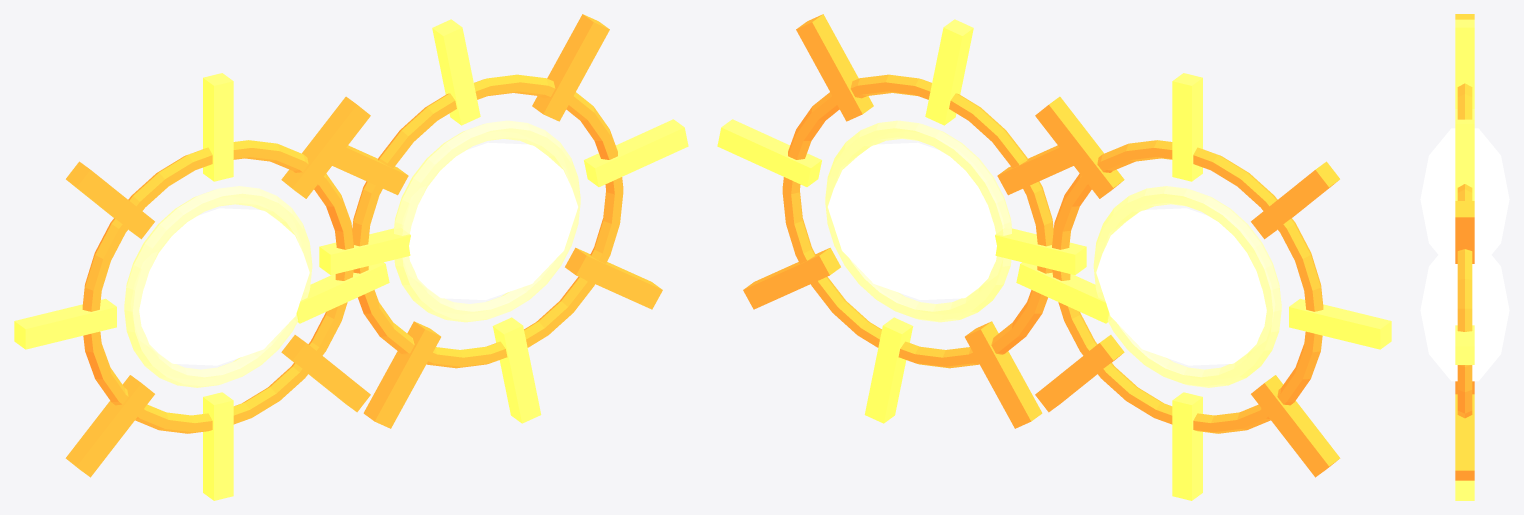
Rendered from effect-double-hit.glb.
The picture shows the model from 3 angles, left to right: view 1: azimuth 30°, elevation 25°; view 2: azimuth 150°, elevation 25°; view 3: azimuth 270°, elevation 25°; orthographic projection. The views are drawn at different scales.
Visible parts, largest first — view 1: DoubleHit_Core_1, DoubleHit_Core_2, DoubleHit_Ring_2_2, DoubleHit_Ring_1_2, DoubleHit_Ring_1_1, DoubleHit_Ring_2_1, DoubleHit_Ray_2_06, DoubleHit_Ray_2_02, DoubleHit_Ray_1_06, DoubleHit_Ray_1_02, DoubleHit_Ray_2_01, DoubleHit_Ray_1_07 (+10 smaller); view 2: DoubleHit_Core_1, DoubleHit_Core_2, DoubleHit_Ring_2_2, DoubleHit_Ring_1_2, DoubleHit_Ring_1_1, DoubleHit_Ring_2_1, DoubleHit_Ray_2_06, DoubleHit_Ray_2_02, DoubleHit_Ray_1_06, DoubleHit_Ray_1_02, DoubleHit_Ray_2_01, DoubleHit_Ray_1_07 (+10 smaller); view 3: DoubleHit_Core_2, DoubleHit_Core_1, DoubleHit_Ring_2_2, DoubleHit_Ray_1_03, DoubleHit_Ray_2_03, DoubleHit_Ray_2_08, DoubleHit_Ray_2_02, DoubleHit_Ray_2_01, DoubleHit_Ring_1_2, DoubleHit_Ray_2_07.
Part boxes in pixels (x1,y1,x2,y2): DoubleHit_Core_1: [139, 208, 309, 365]; DoubleHit_Core_2: [409, 142, 577, 299]; DoubleHit_Ring_2_2: [352, 74, 623, 368]; DoubleHit_Ring_1_2: [82, 140, 353, 433]; DoubleHit_Ring_1_1: [124, 186, 312, 387]; DoubleHit_Ring_2_1: [394, 120, 580, 322]; DoubleHit_Ray_2_06: [363, 321, 440, 428]; DoubleHit_Ray_2_02: [532, 14, 609, 121]; DoubleHit_Ray_1_06: [65, 375, 154, 477]; DoubleHit_Ray_1_02: [281, 96, 370, 198]; DoubleHit_Ray_2_01: [584, 119, 688, 186]; DoubleHit_Ray_1_07: [203, 392, 233, 500]; DoubleHit_Core_1: [1096, 208, 1266, 365]; DoubleHit_Core_2: [828, 142, 996, 299]; DoubleHit_Ring_2_2: [782, 74, 1053, 368]; DoubleHit_Ring_1_2: [1052, 140, 1323, 433]; DoubleHit_Ring_1_1: [1093, 186, 1281, 387]; DoubleHit_Ring_2_1: [825, 120, 1011, 322]; DoubleHit_Ray_2_06: [965, 321, 1042, 428]; DoubleHit_Ray_2_02: [796, 14, 873, 121]; DoubleHit_Ray_1_06: [1251, 375, 1340, 477]; DoubleHit_Ray_1_02: [1035, 96, 1124, 198]; DoubleHit_Ray_2_01: [717, 119, 821, 186]; DoubleHit_Ray_1_07: [1172, 392, 1202, 500]; DoubleHit_Core_2: [1420, 239, 1509, 381]; DoubleHit_Core_1: [1420, 128, 1509, 254]; DoubleHit_Ring_2_2: [1457, 184, 1472, 418]; DoubleHit_Ray_1_03: [1455, 19, 1474, 108]; DoubleHit_Ray_2_03: [1455, 119, 1474, 200]; DoubleHit_Ray_2_08: [1455, 394, 1474, 480]; DoubleHit_Ray_2_02: [1455, 201, 1474, 263]; DoubleHit_Ray_2_01: [1455, 325, 1474, 364]; DoubleHit_Ring_1_2: [1457, 83, 1472, 119]; DoubleHit_Ray_2_07: [1455, 480, 1474, 500].
Size of the model in its own units: 1.09 by 0.65 by 0.1495.
